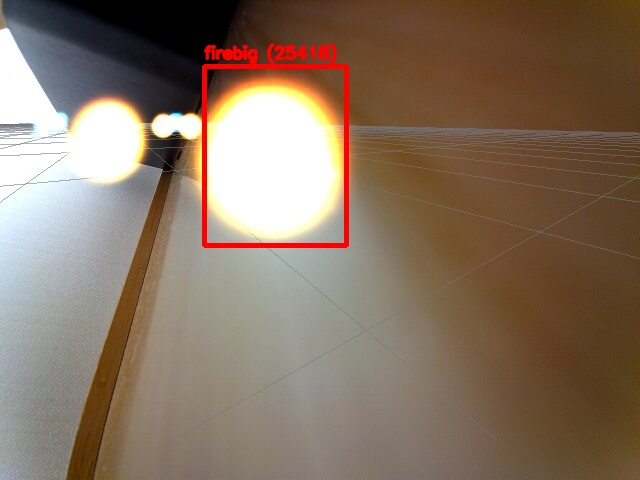firebig: (204, 66, 346, 245)
